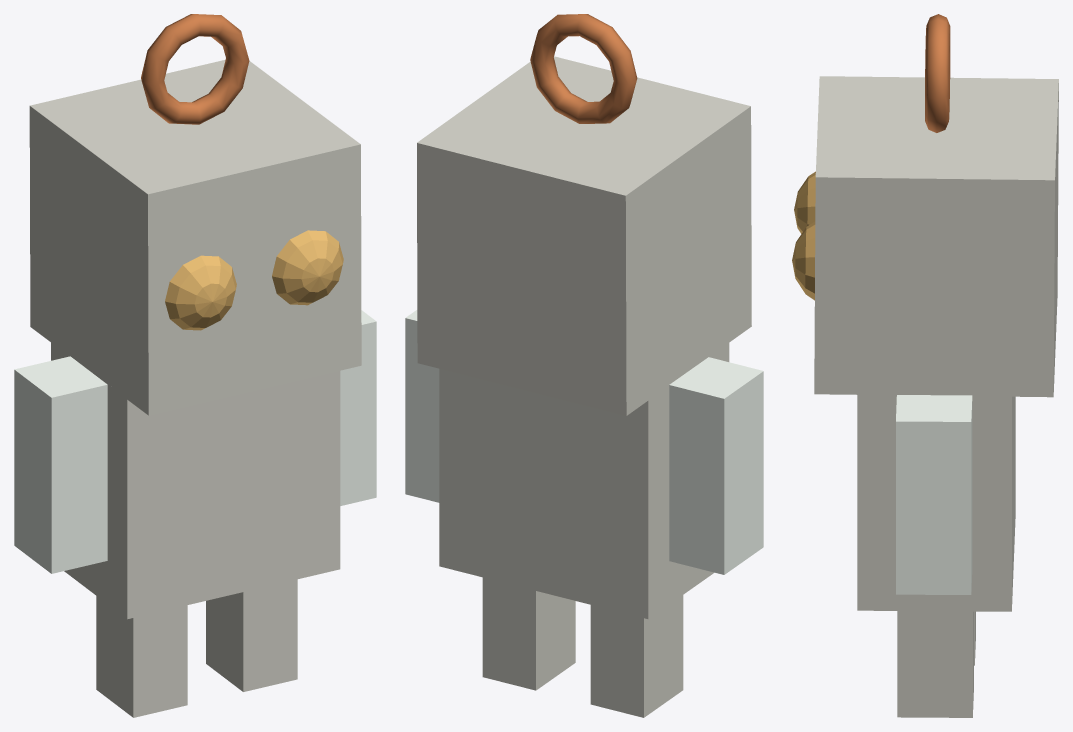
File: Player2.fbx
3 views of the same model, side by side, from view 1: azimuth 30°, elevation 25°; view 2: azimuth 150°, elevation 25°; view 3: azimuth 270°, elevation 25° (orthographic).
Visible parts, largest first — view 1: head.006, head.001, head.005, head.004, head.003, head.009, head.002, head.007, head.008; view 2: head.006, head.001, head.005, head.004, head.003, head.009, head.002; view 3: head.006, head.001, head.002, head.003, head.009, head.007, head.008.
Part boxes in pixels (box(x1,y1,x2,y2)): head.006: box(29, 59, 361, 415); head.001: box(51, 342, 340, 619); head.005: box(14, 356, 107, 573); head.004: box(96, 596, 187, 717); head.003: box(206, 579, 297, 691); head.009: box(141, 14, 249, 124); head.002: box(340, 310, 376, 505); head.007: box(272, 230, 343, 305); head.008: box(165, 255, 236, 330); head.006: box(417, 56, 751, 415); head.001: box(439, 342, 729, 619); head.005: box(669, 357, 763, 574); head.004: box(590, 595, 683, 717); head.003: box(482, 577, 575, 690); head.009: box(530, 14, 637, 123); head.002: box(405, 310, 439, 502); head.006: box(814, 76, 1058, 397); head.001: box(857, 394, 1015, 611); head.002: box(896, 395, 972, 594); head.003: box(897, 611, 973, 717); head.009: box(925, 14, 950, 132); head.007: box(792, 221, 815, 300); head.008: box(794, 171, 815, 233).
Bounding box in the file's own units: 306 × 607 × 223.
